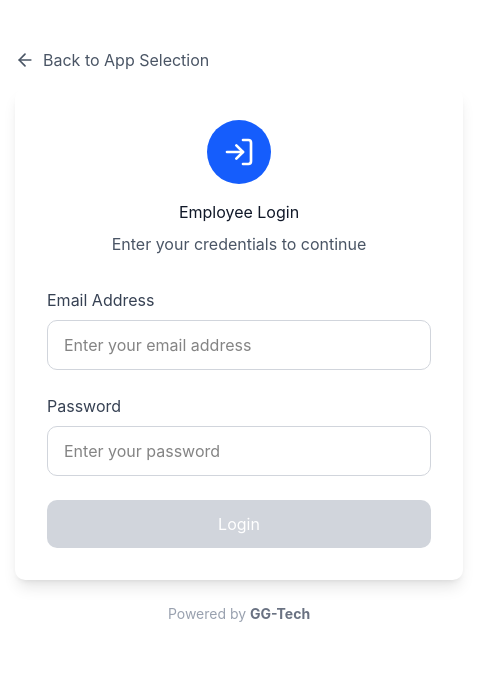
Scenario: Employee LoginScreen › email validation › rejects an email with no @ sign
Type "workerarka.test" into the field labelled "Email Address" at (239, 345), box [47,320,431,370]
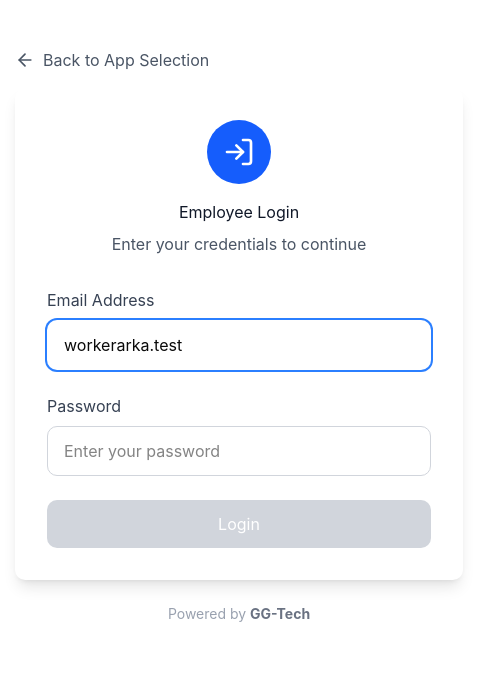
Type "correct-horse" into the password field labelled "Password" at (239, 451), box [47,426,431,476]
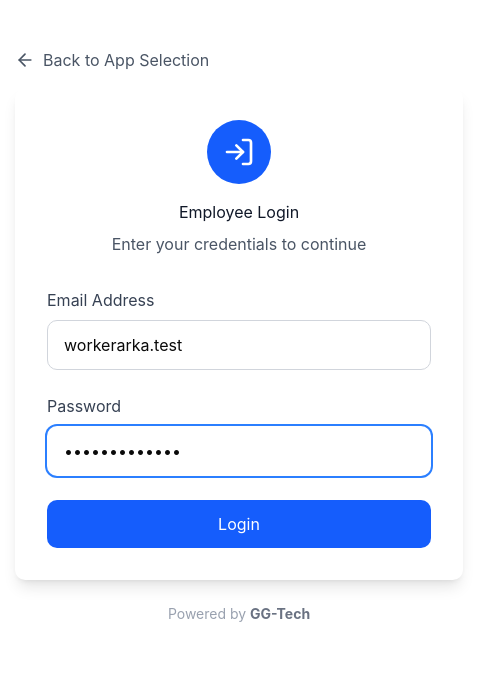
Click the button "Login" at (239, 524), box [47,500,431,548]
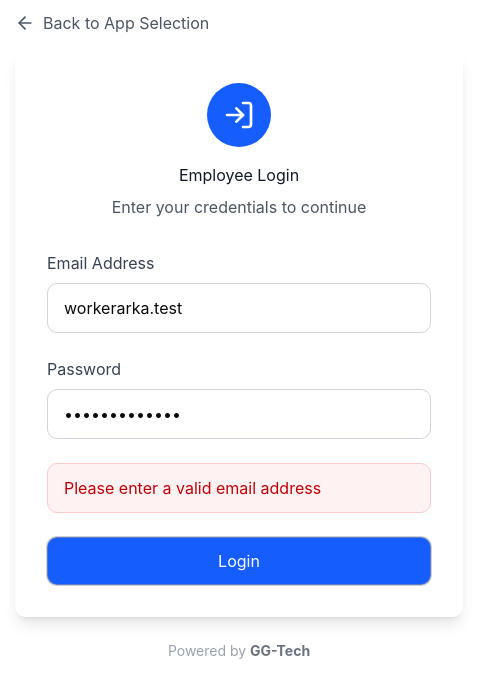
Check: the text "Please enter a valid email address" is shown, box [47,463,431,513]
